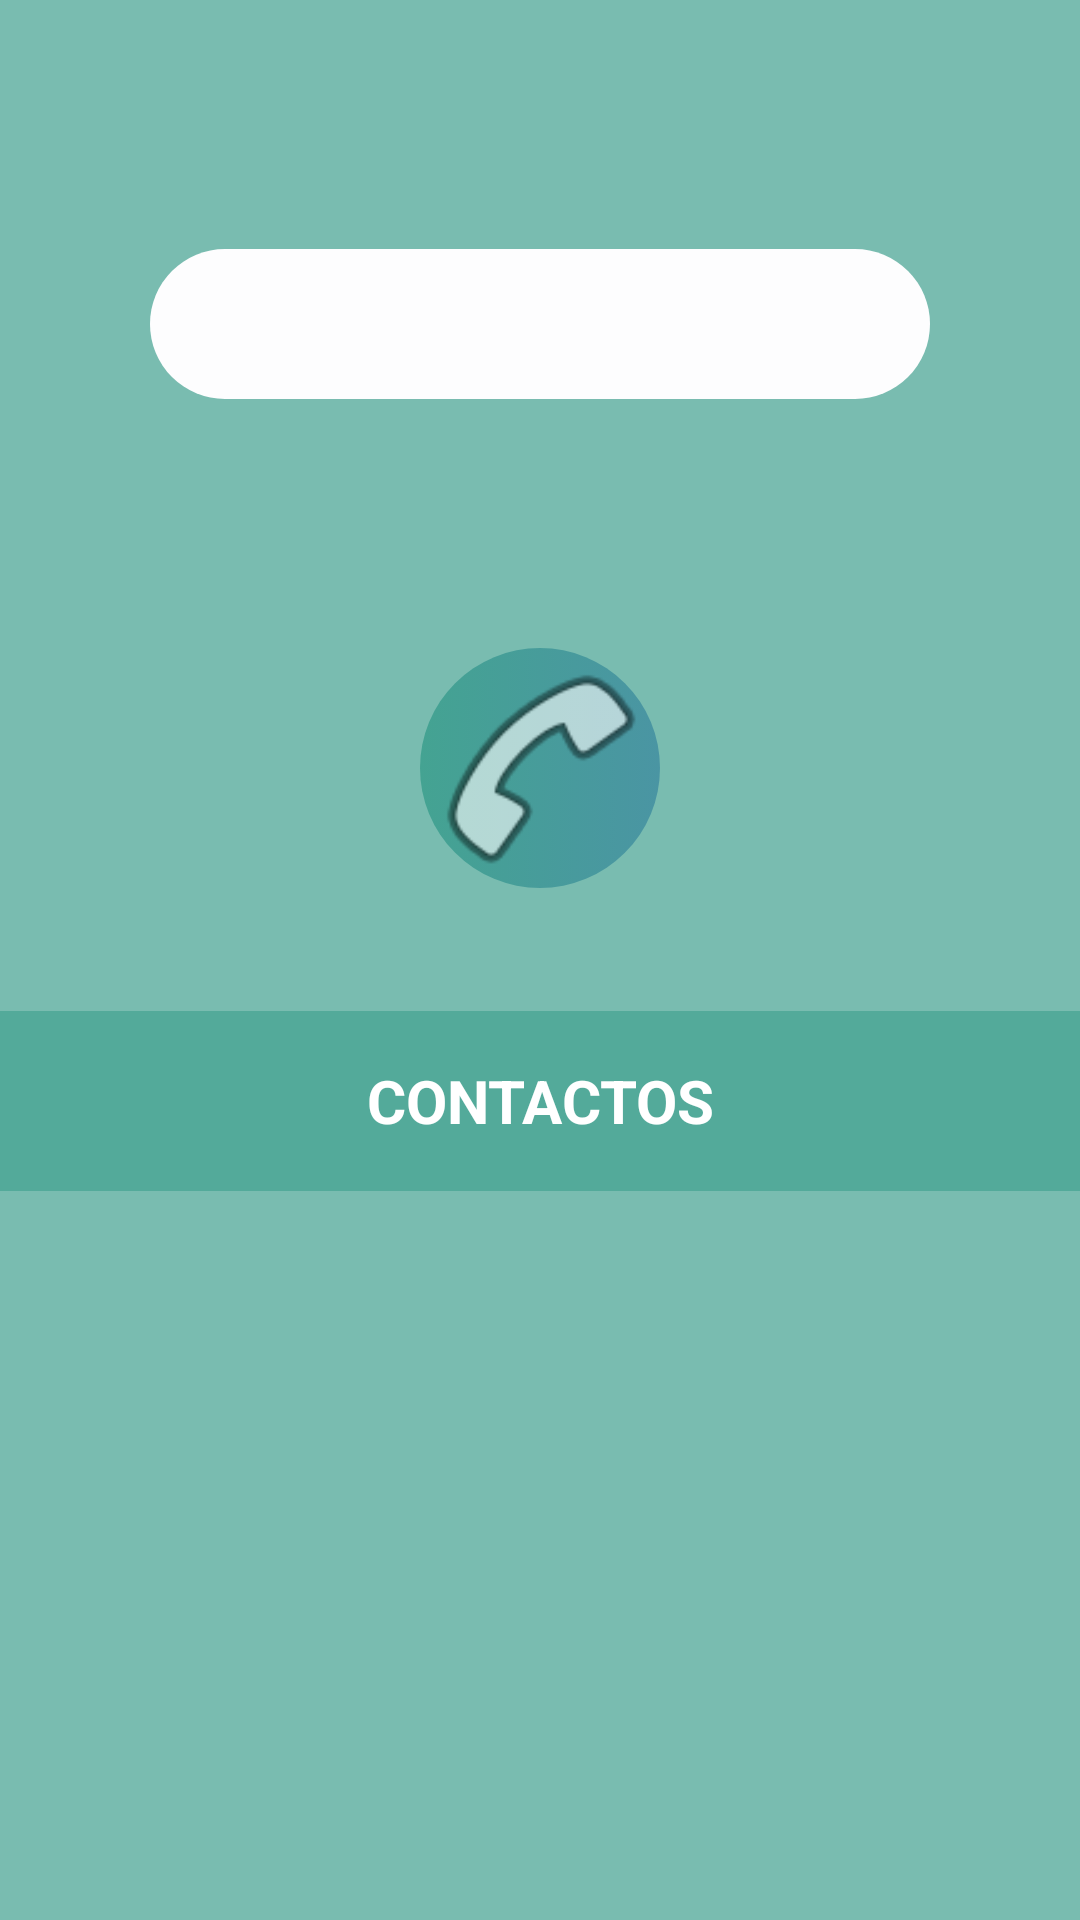

Where icons sit on this 1080 × 1920 app screen, as (x1, y1, x2, y2):
call: (420, 648, 660, 888)
